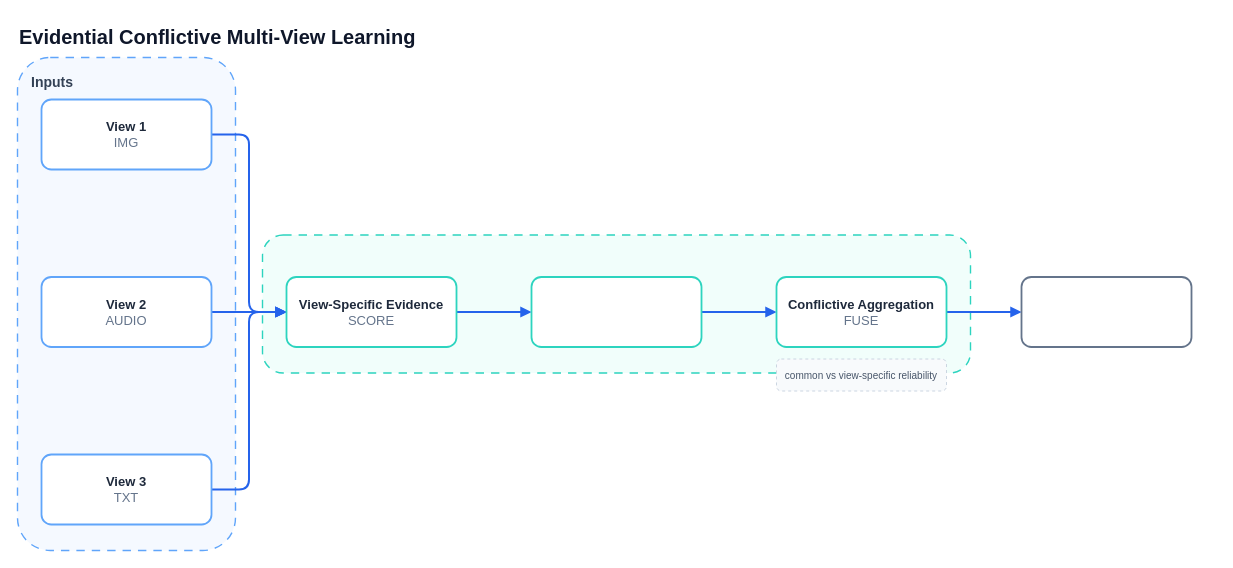
Some shapes in this 1233 by 568 pixel diagram are drawn without their labels. The box of each missing label's shape, as (x1, y1, x2, y2) in pixels:
Decision + Reliability OK: (1020, 276, 1192, 347)
Fusion: (261, 234, 971, 373)
Opinion Construction CHAT: (530, 276, 702, 347)
